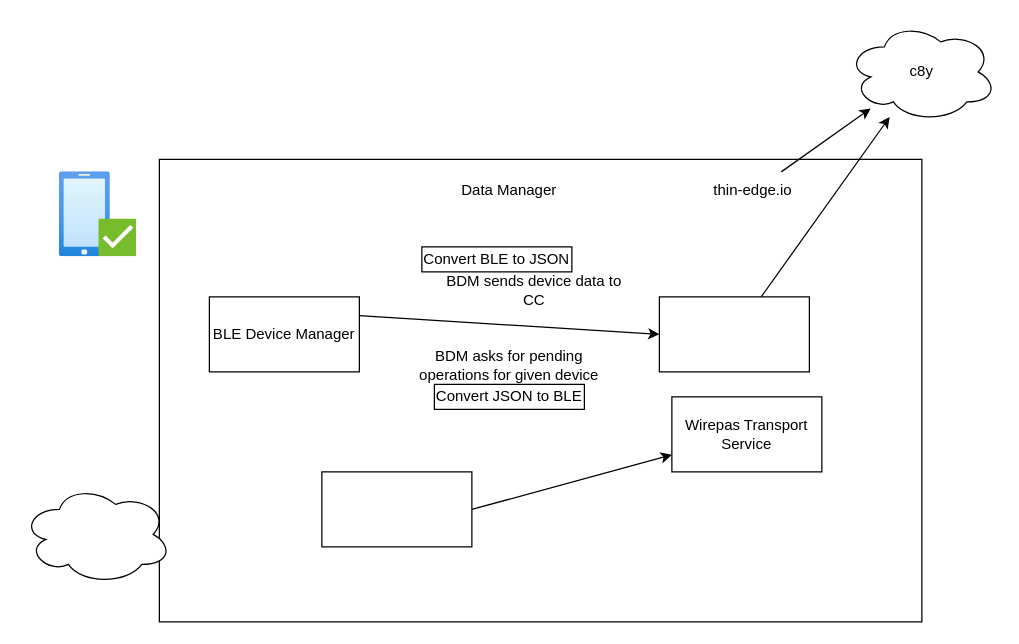
This 1019x644 diagram has some shape labels left out. Each missing label, with the box of its shape:
Cloud Communicator (MQTT Pub/Sub): (658, 296, 809, 372)
DBus: (321, 471, 472, 547)
Wirepas Mesh: (21, 483, 172, 584)
